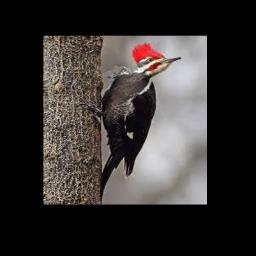Woodpecker: (80, 44, 181, 203)
